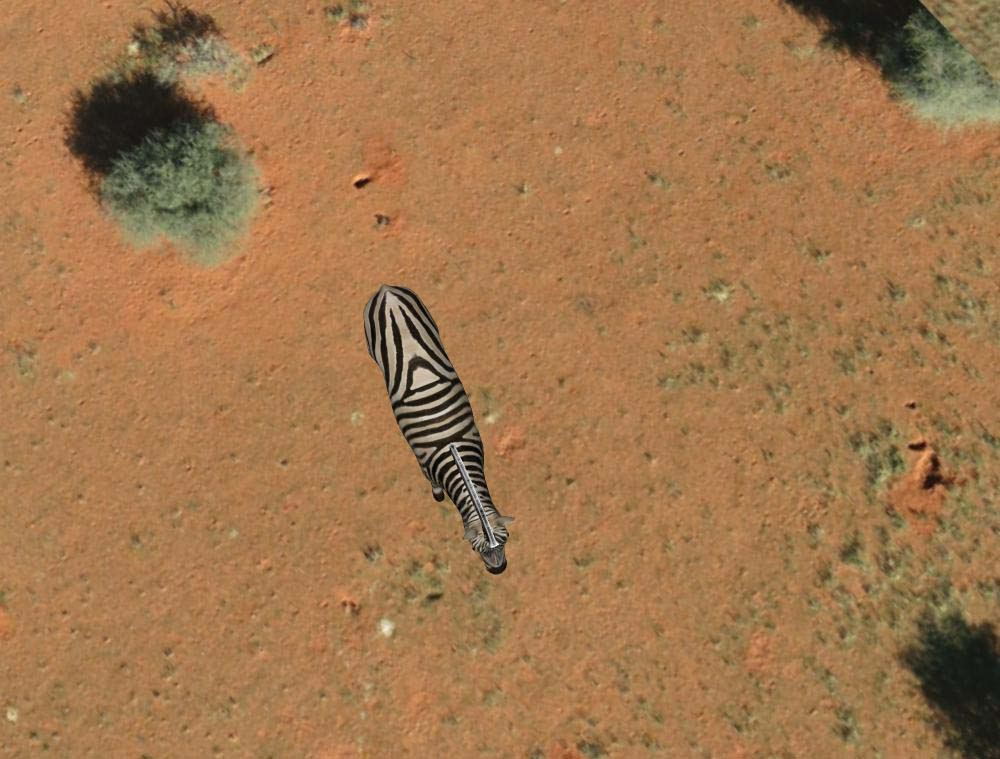zebra: (356, 281, 523, 578)
